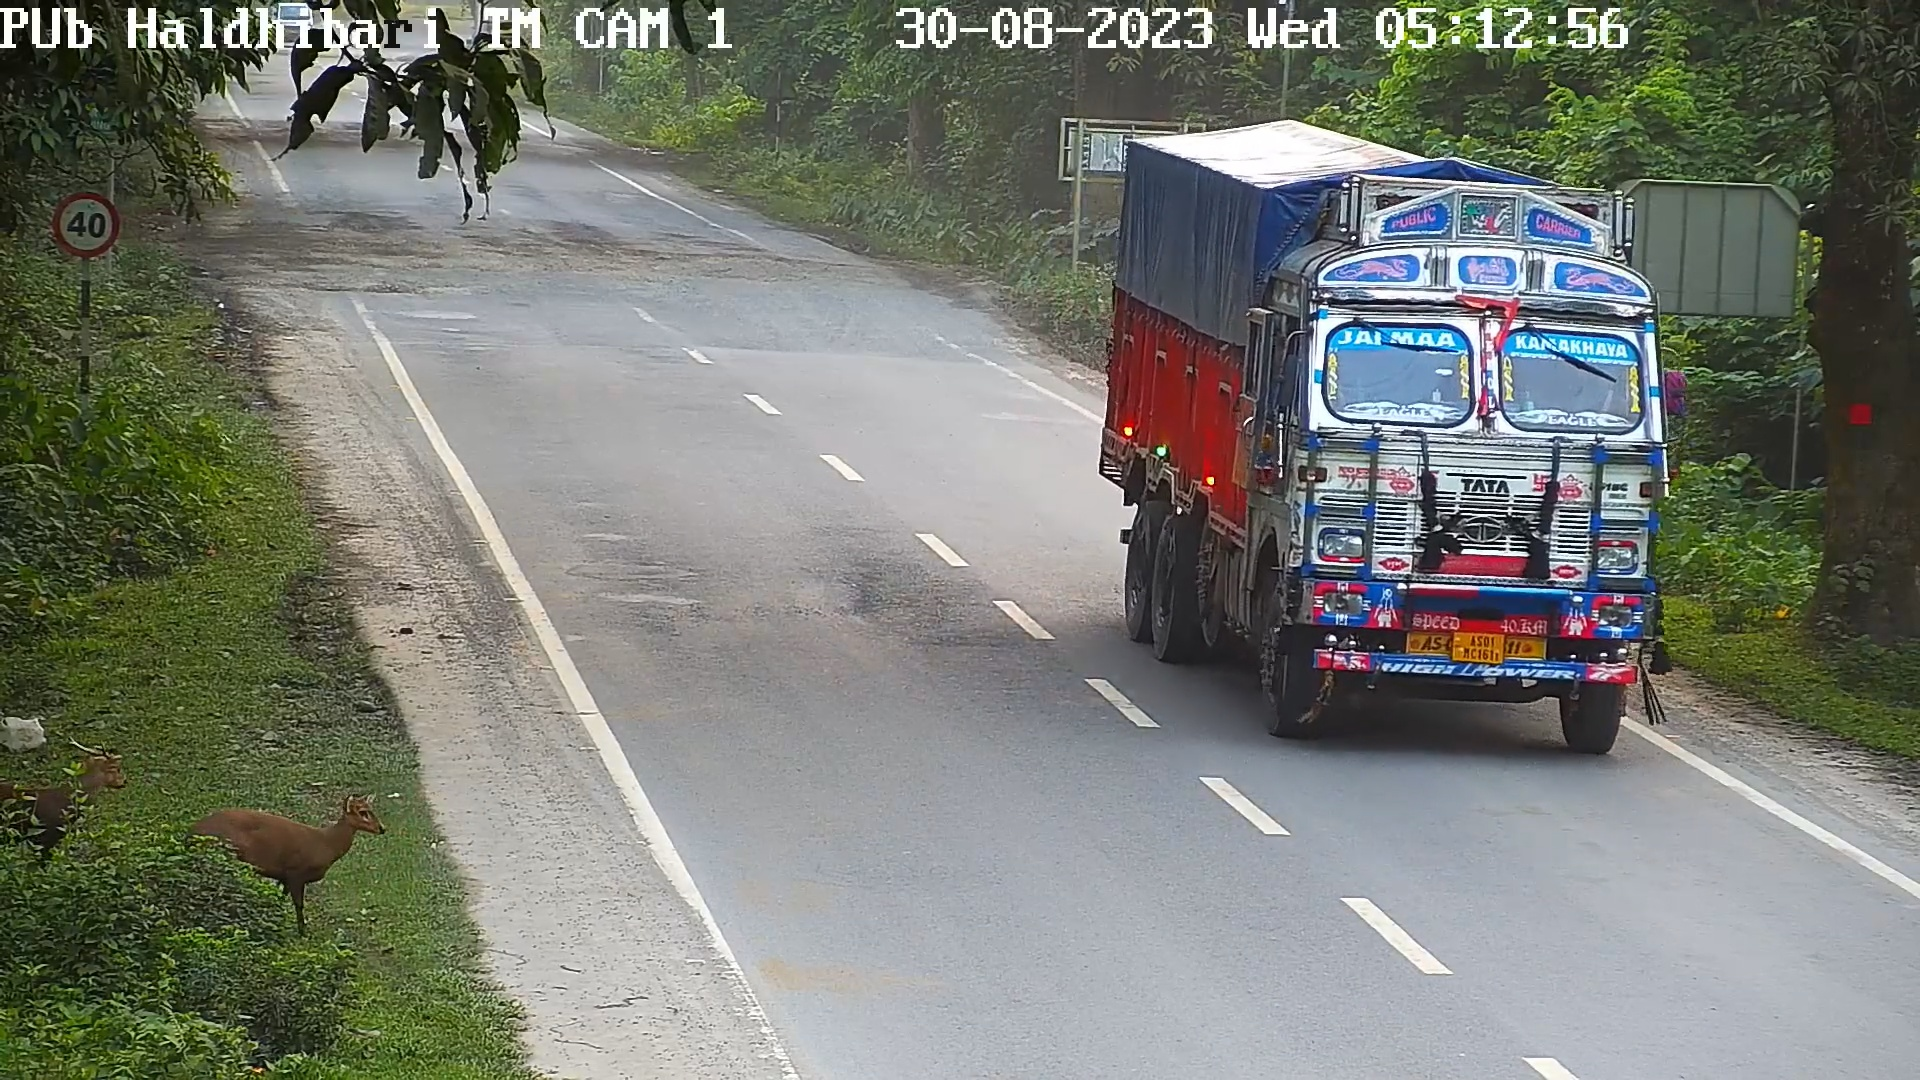deers: (170, 783, 394, 940), (0, 719, 127, 889)
